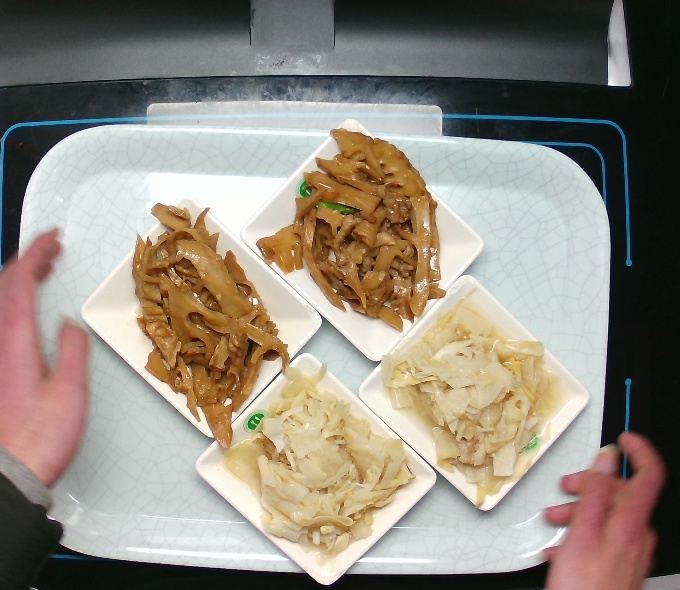wcq-LuSun: (375, 292, 573, 508), (225, 359, 424, 558)
wcq-SunGan: (252, 122, 451, 341), (125, 200, 293, 453)
